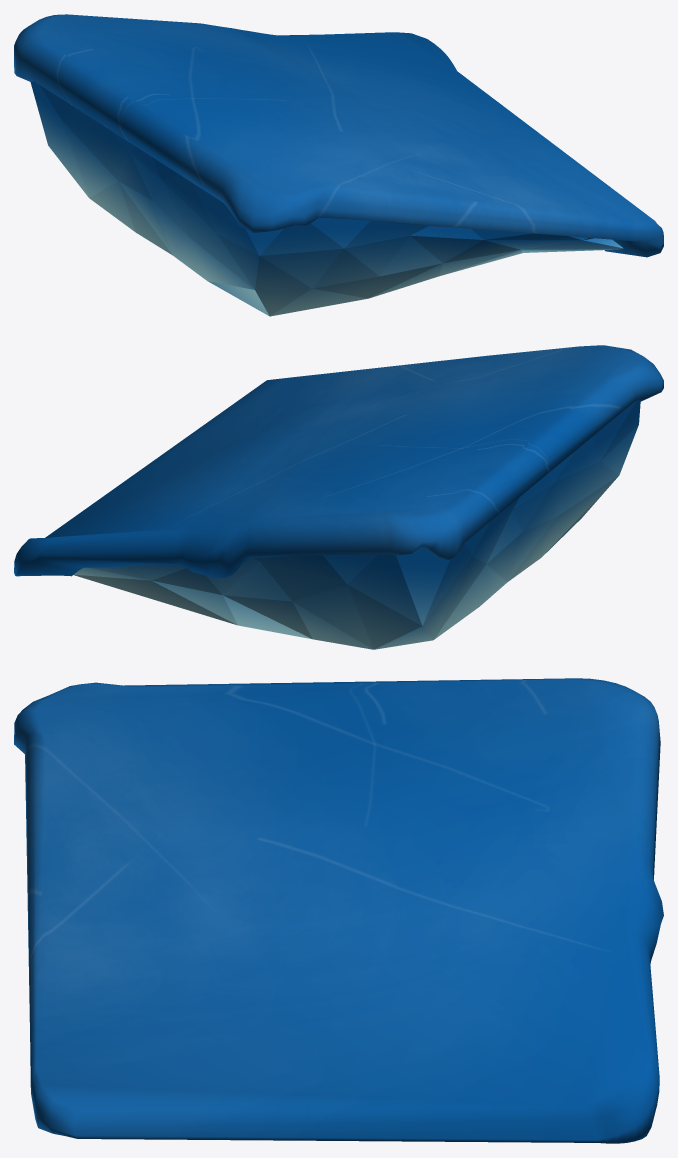
The model's file is IceRamp.fbx.
The picture shows the model from 3 angles, top to bottom: view 1: azimuth 30°, elevation 25°; view 2: azimuth 150°, elevation 25°; view 3: azimuth 270°, elevation 25°; orthographic projection. The views are drawn at different scales.
Parts seen in each view (by area): view 1: IceRamp.Top, IcePlatform02.001; view 2: IceRamp.Top, IcePlatform02.001; view 3: IceRamp.Top.
Part boxes in pixels (box(x1,y1,x2,y2)): IceRamp.Top: box(14, 14, 663, 257); IcePlatform02.001: box(30, 81, 623, 316); IceRamp.Top: box(14, 345, 663, 578); IcePlatform02.001: box(74, 399, 640, 649); IceRamp.Top: box(14, 678, 663, 1143).
Bounding box in the file's own units: 6.45 × 2.15 × 6.41.
